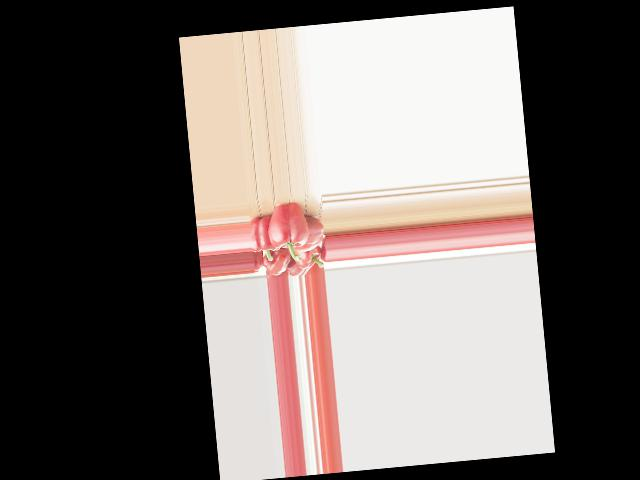bell_pepper: (294, 243, 325, 270)
